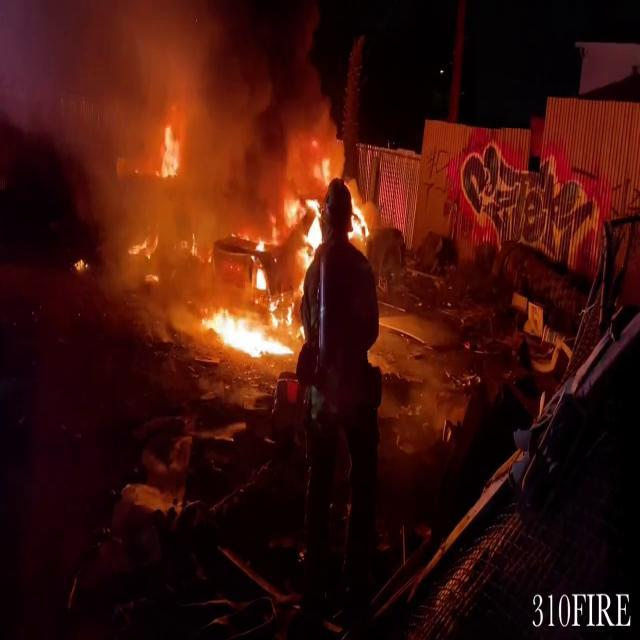Fire: (276, 142, 342, 282), (198, 277, 292, 363), (152, 104, 190, 182), (347, 177, 373, 252)
Smoke: (29, 0, 338, 282)
